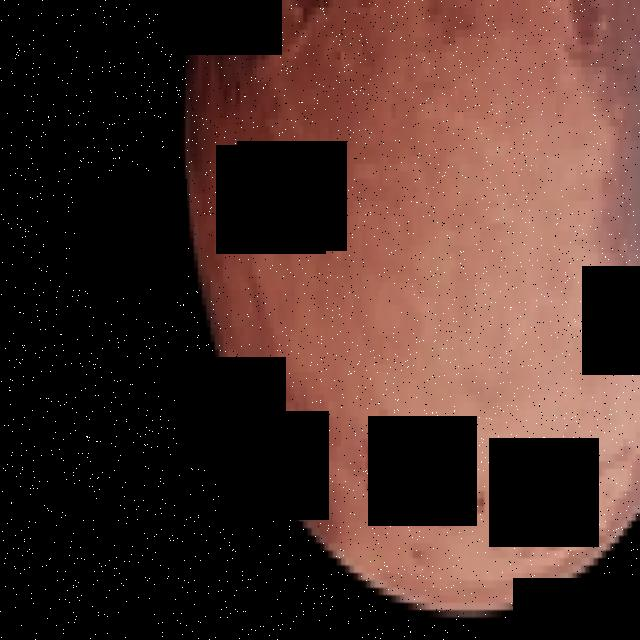Mars: (181, 0, 640, 625)
